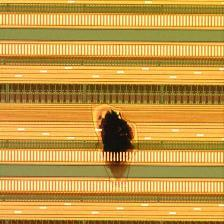PARTICLE: (86, 92, 144, 193)
